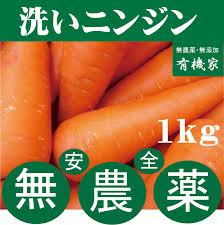Organic: (4, 41, 224, 183)
